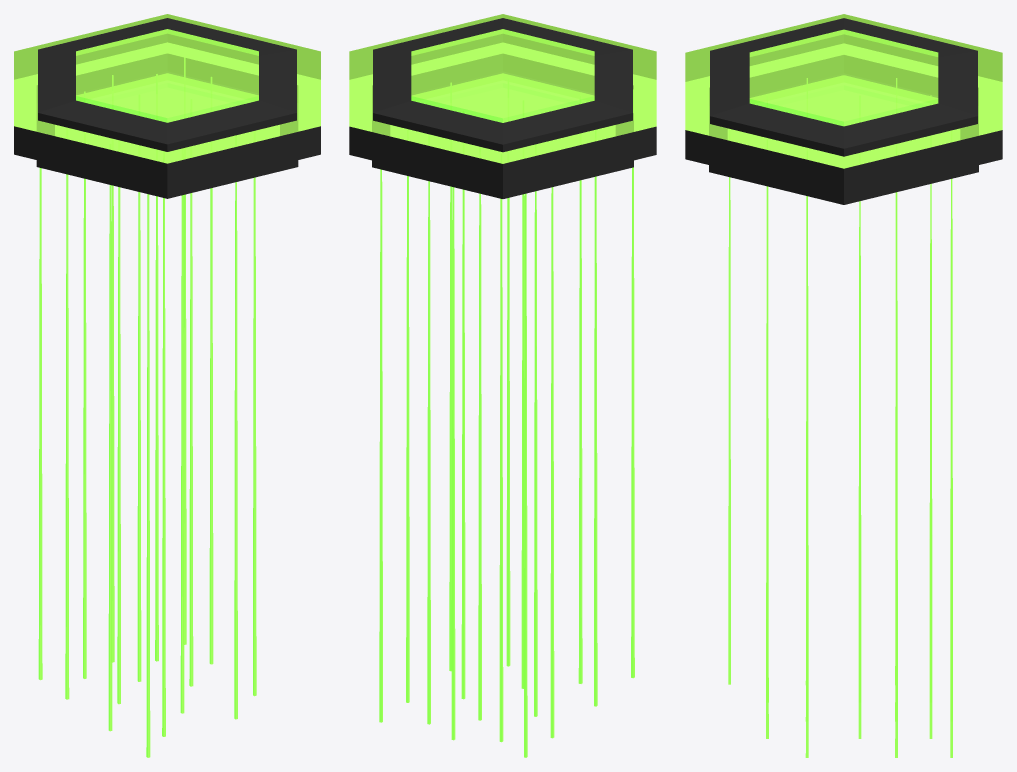
File: Ceiling_Laser_Pendant.glb
The picture shows the model from 3 angles, left to right: view 1: azimuth 30°, elevation 25°; view 2: azimuth 150°, elevation 25°; view 3: azimuth 270°, elevation 25°; orthographic projection. The views are drawn at different scales.
Parts seen in each view (by area): view 1: lazer.002; view 2: lazer.002; view 3: lazer.002.
Part boxes in pixels (x1,y1,x2,y2): lazer.002: [14, 14, 320, 757]; lazer.002: [349, 14, 656, 757]; lazer.002: [685, 14, 1002, 757].
Size of the model in its own units: 5.85 by 11.41 by 5.07.
